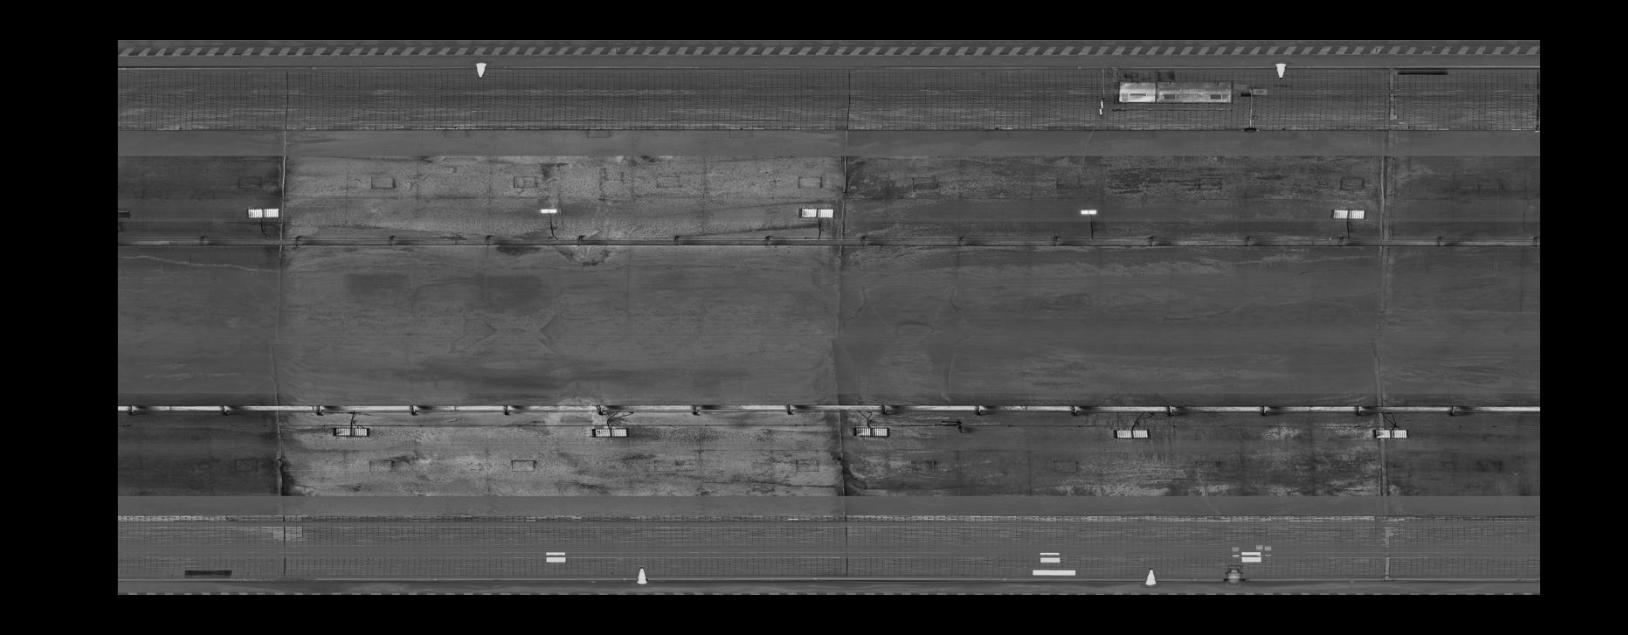light: (328, 423, 372, 440), (848, 423, 892, 440), (586, 425, 630, 441), (1109, 426, 1154, 442), (1326, 206, 1368, 221), (1369, 426, 1411, 441), (241, 204, 281, 219), (797, 205, 836, 220), (535, 206, 563, 215), (1075, 208, 1103, 216)
